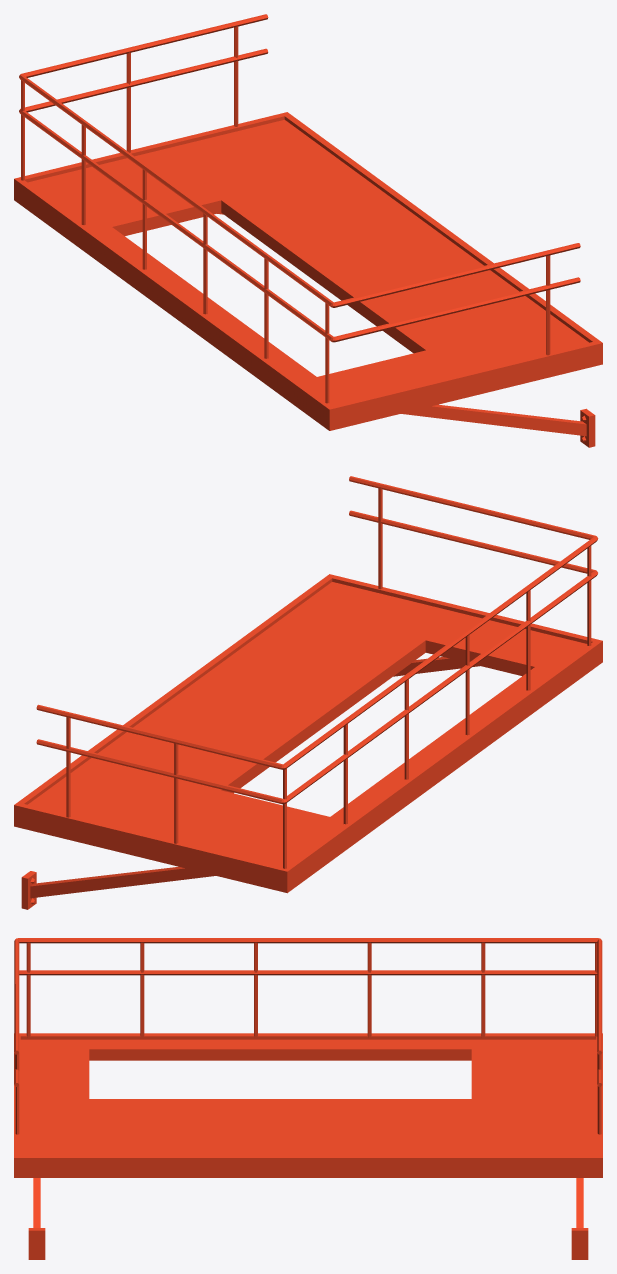
Rendered from SM_Fire_Escape_Top_City.fbx.
3 views of the same model, one above another, from view 1: azimuth 30°, elevation 25°; view 2: azimuth 150°, elevation 25°; view 3: azimuth 270°, elevation 25° (orthographic). The views are drawn at different scales.
Visible parts, largest first — view 1: SM_Fire_Escape_Top_City; view 2: SM_Fire_Escape_Top_City; view 3: SM_Fire_Escape_Top_City.
Boxes of the visible parts, x1,y1,x2,y2 form: SM_Fire_Escape_Top_City: (14, 14, 602, 447); SM_Fire_Escape_Top_City: (14, 476, 602, 909); SM_Fire_Escape_Top_City: (14, 938, 602, 1259).
Bounding box in the file's own units: 2 × 1.49 × 4.
